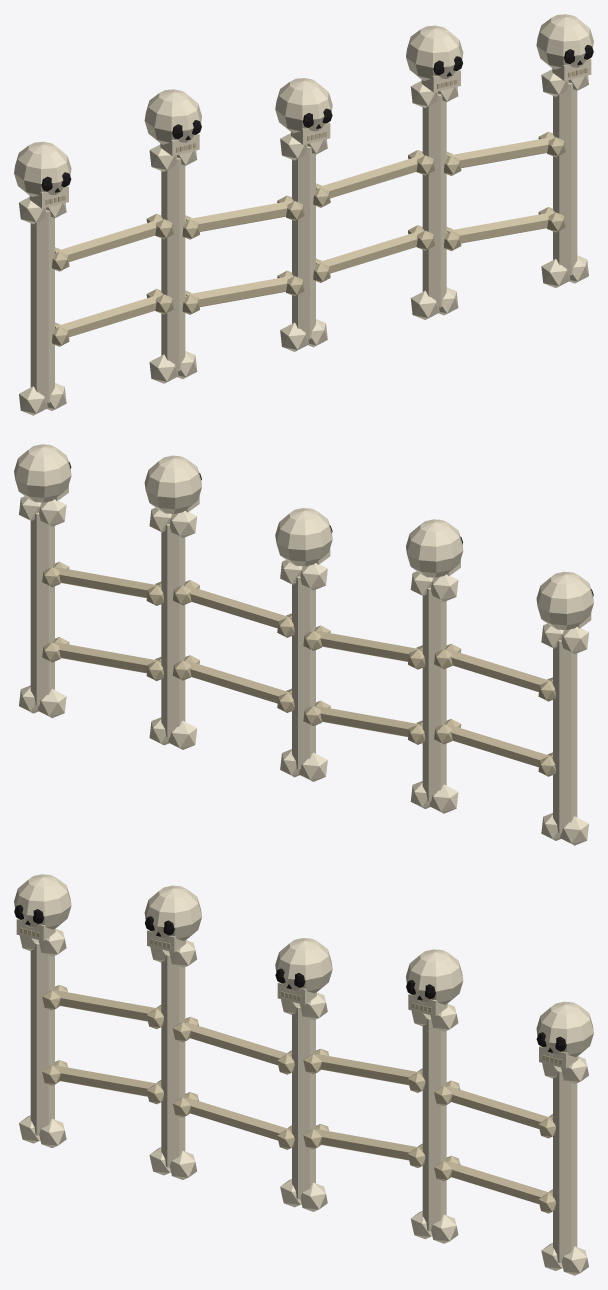
Rendered from BoneFence.fbx.
3 views of the same model, one above another, from view 1: azimuth 30°, elevation 25°; view 2: azimuth 150°, elevation 25°; view 3: azimuth 330°, elevation 25° (orthographic).
Parts seen in each view (by area): view 1: BoneFence; view 2: BoneFence; view 3: BoneFence.
Part boxes in pixels (box(x1,y1,x2,y2)): BoneFence: box(14, 14, 593, 415); BoneFence: box(14, 444, 593, 845); BoneFence: box(14, 874, 593, 1275).
Size of the model in its own units: 873 by 423 by 84.48.
Materials: 1 (1 with a texture image).
